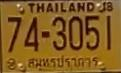0: (68, 16, 82, 50)
1: (106, 16, 110, 50)
3: (52, 16, 66, 50)
4: (23, 16, 38, 51)
5: (84, 14, 100, 49)
7: (7, 16, 21, 52)
SPK: (26, 55, 100, 69)
